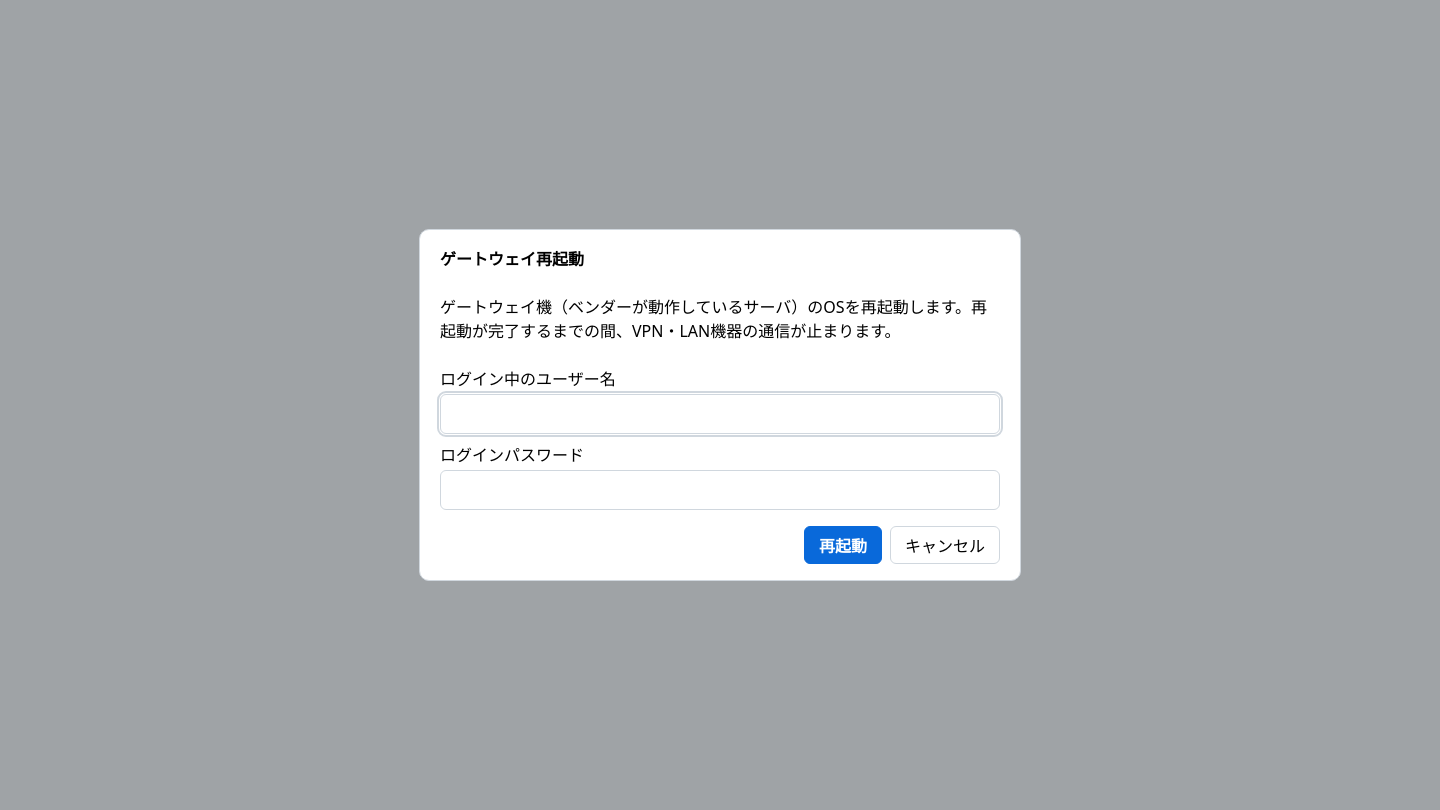
Test: RebootDialog › 401はパスワード誤りとしてダイアログ内に表示する
Type "wrong" into the password field labelled "ログインパスワード" at (720, 490), box top-left (440, 470), bottom-right (1000, 510)
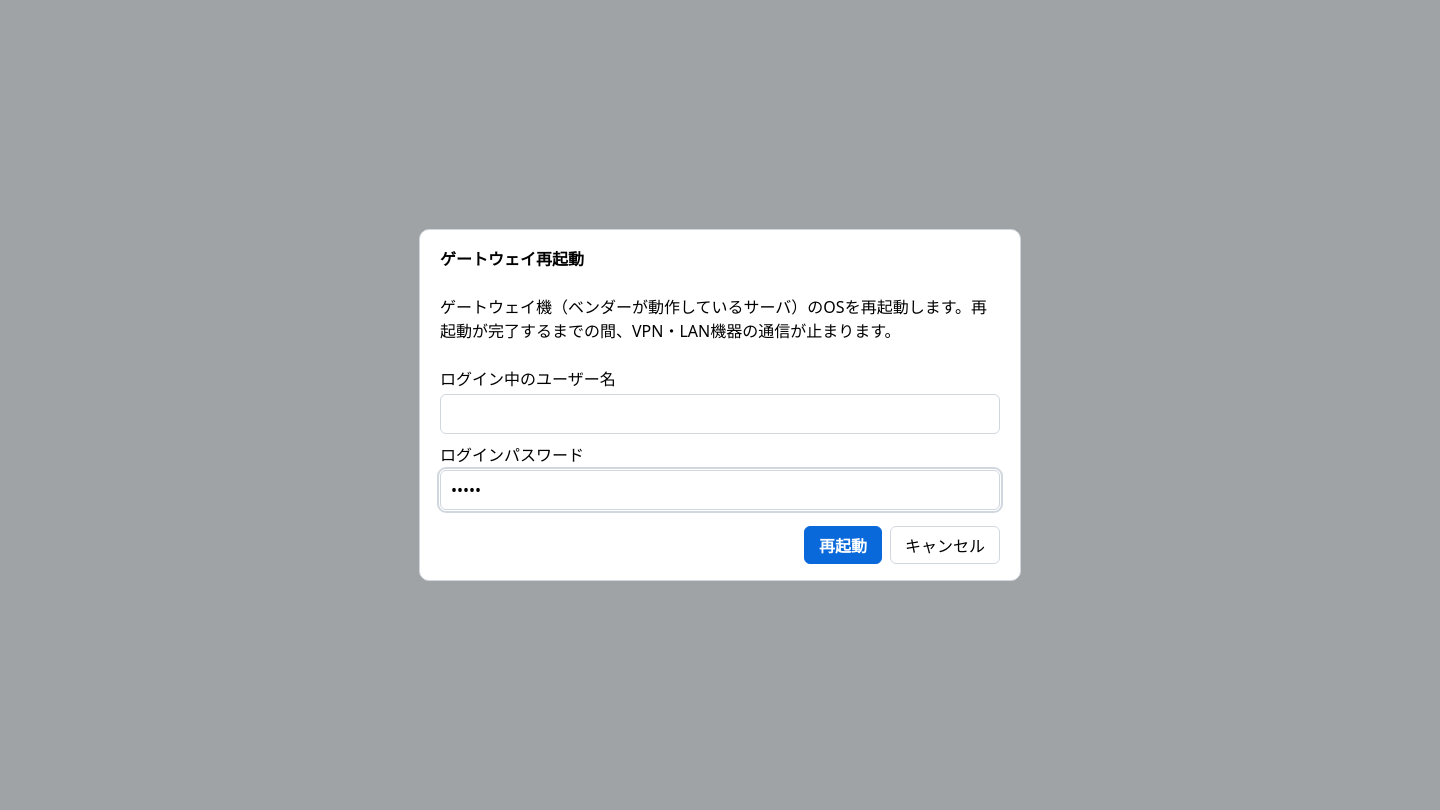
Click the button "再起動" at (843, 545), box top-left (804, 526), bottom-right (882, 564)
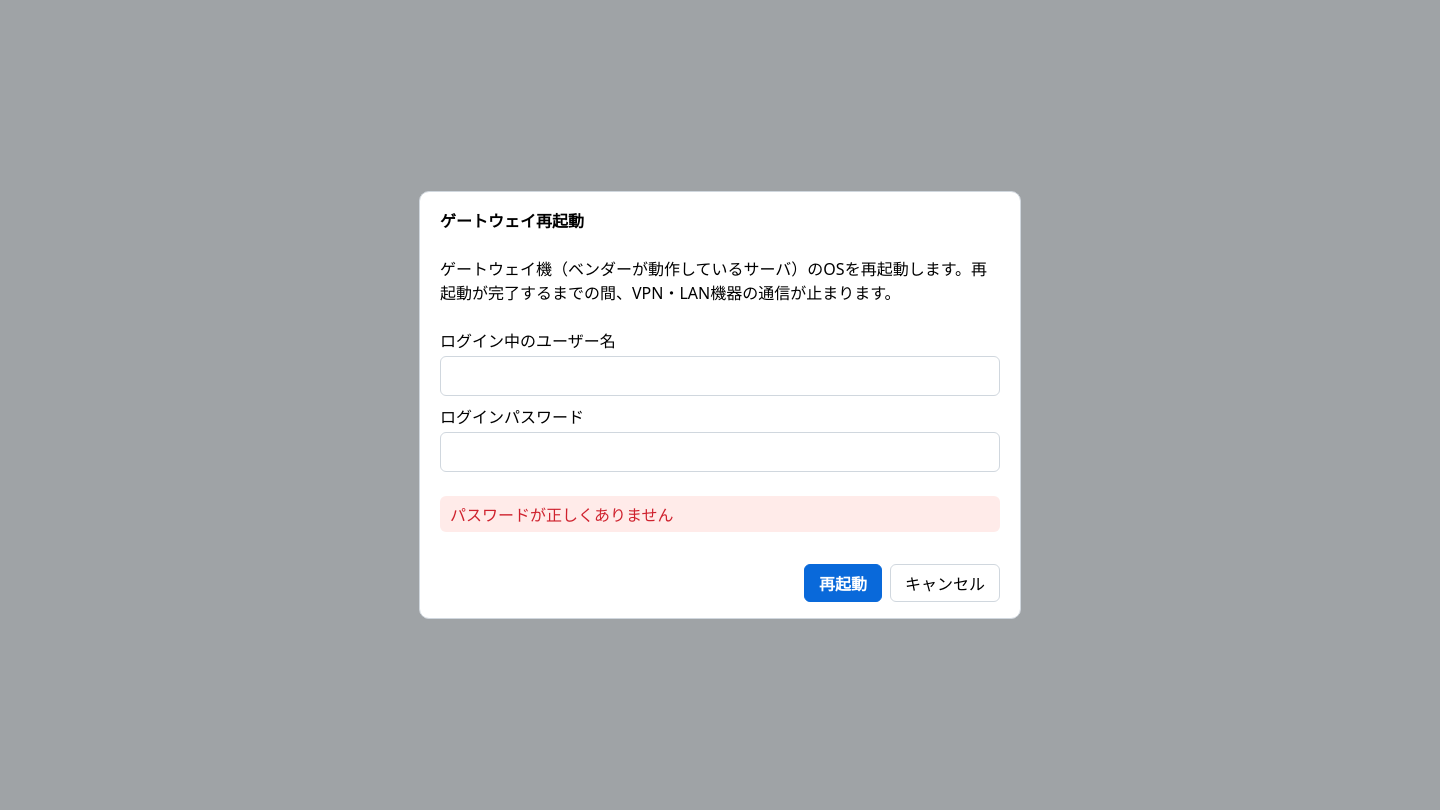
Check: the message reads "パスワードが正しくありません", box top-left (450, 504), bottom-right (674, 526)
